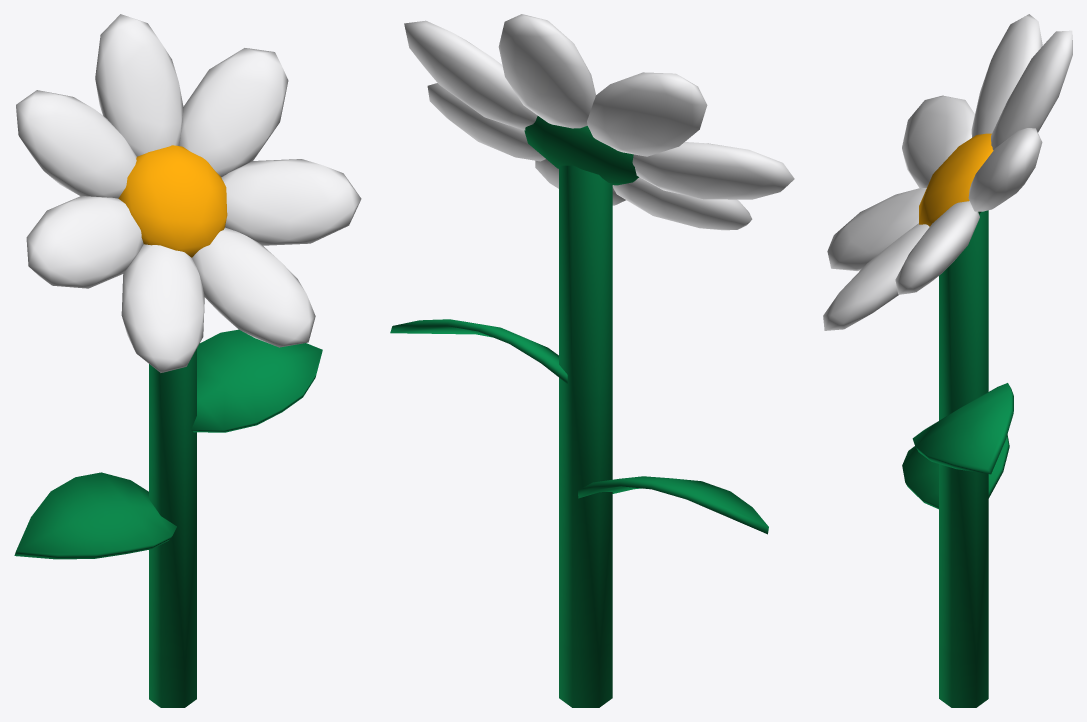
Rendered from Flover_01.4.fbx.
3 views of the same model, side by side, from view 1: azimuth 30°, elevation 25°; view 2: azimuth 150°, elevation 25°; view 3: azimuth 270°, elevation 25° (orthographic). The views are drawn at different scales.
Parts seen in each view (by area): view 1: Flover_01.4; view 2: Flover_01.4; view 3: Flover_01.4.
Boxes of the visible parts, box(x1,y1,x2,y2) form: Flover_01.4: box(14, 14, 361, 707); Flover_01.4: box(390, 14, 794, 707); Flover_01.4: box(823, 14, 1072, 707).
Size of the model in its own units: 33.45 by 21.31 by 62.92.
